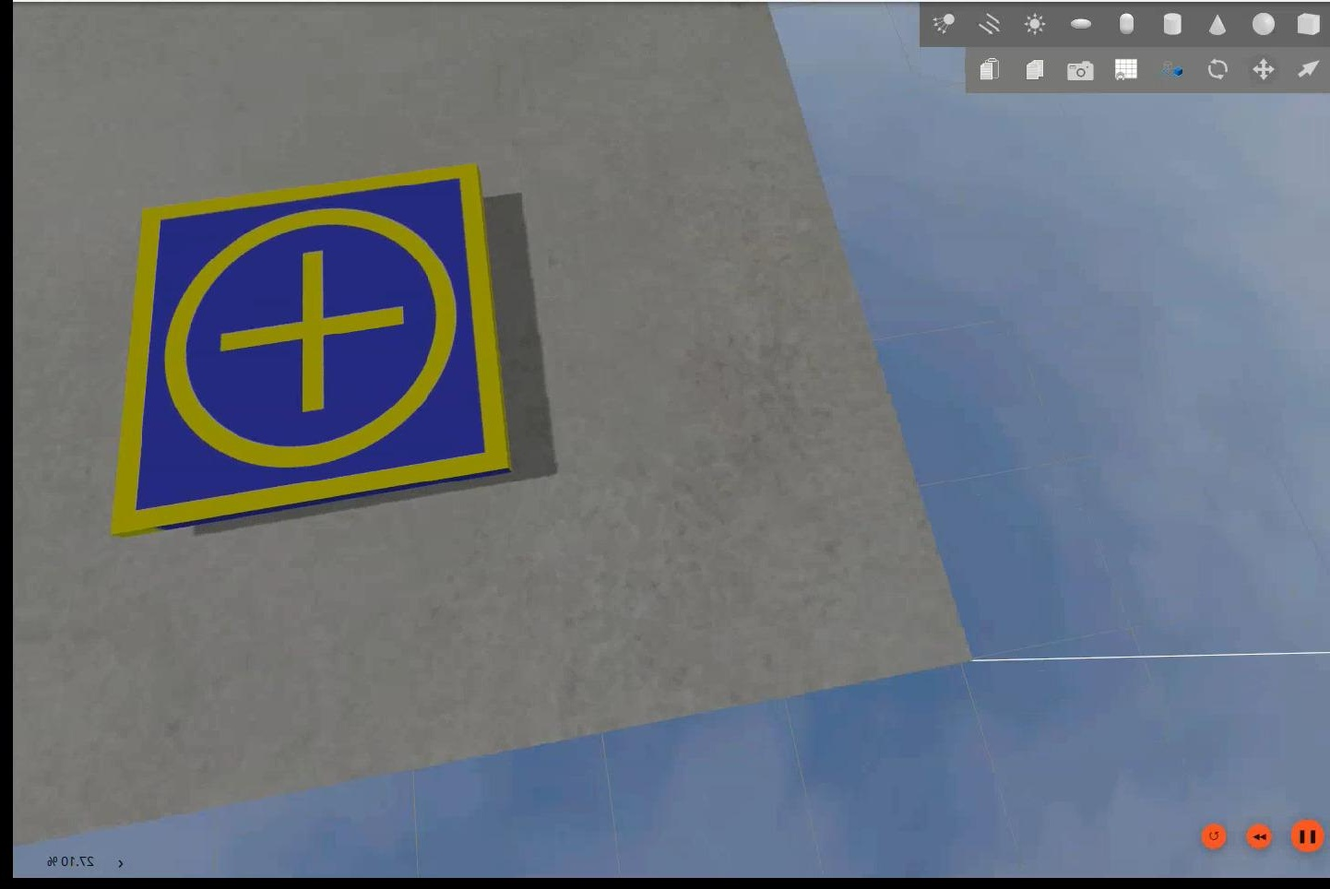small_base: (101, 160, 510, 541)
